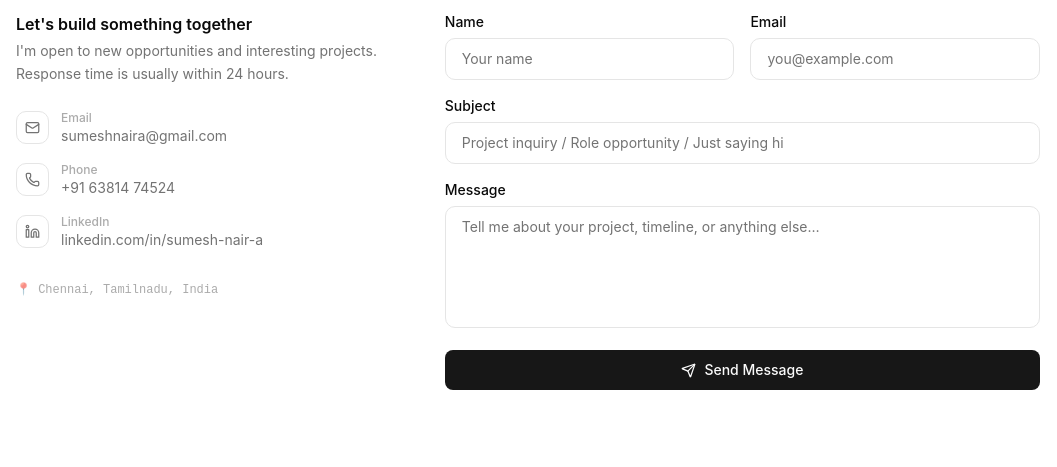
ContactSection › shows validation error for empty name
Click the button "Send Message".
click(742, 370)  # box [445, 350, 1040, 390]
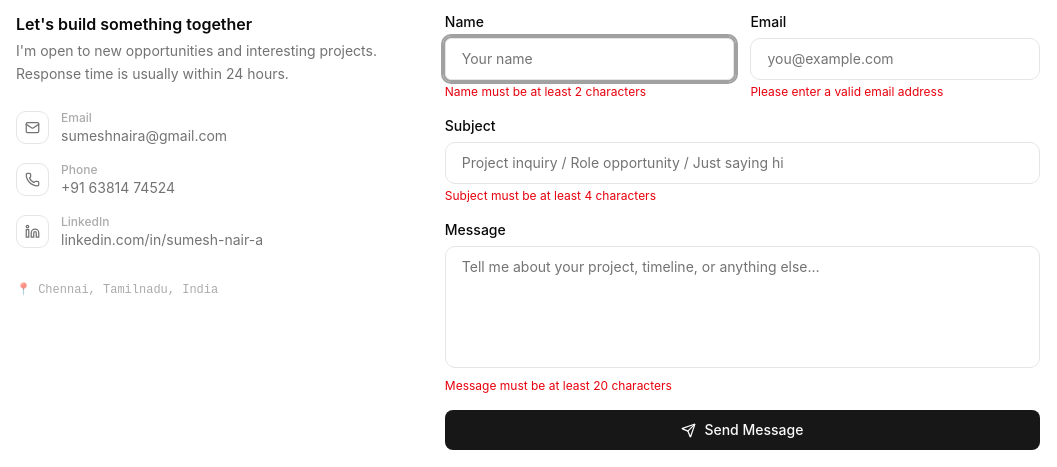
Now the text "Name must be at least 2 characters" is shown, box [445, 84, 646, 99]
